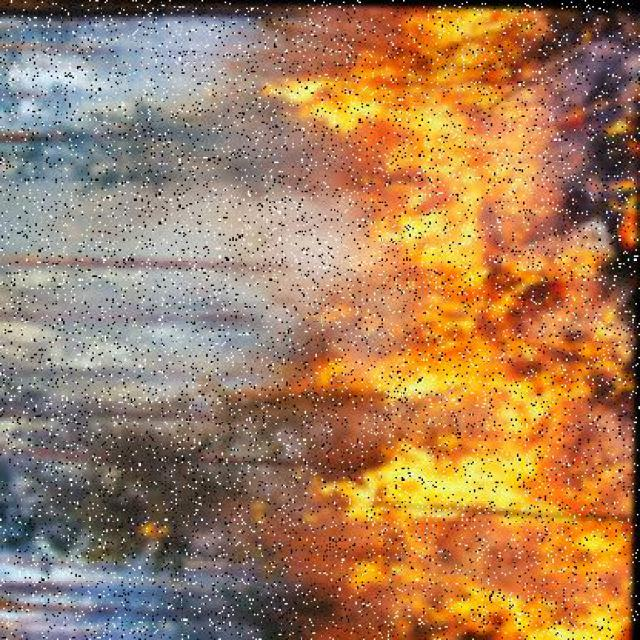fire: (260, 6, 631, 640)
